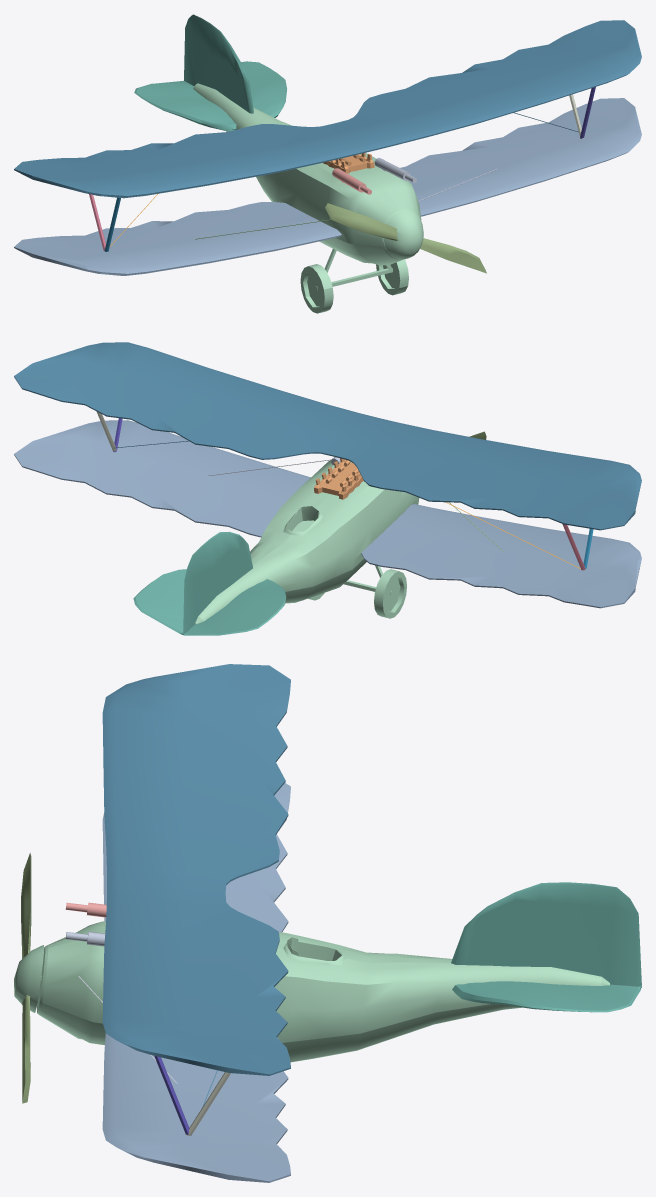
3 views of the same model, one above another, from view 1: azimuth 30°, elevation 25°; view 2: azimuth 150°, elevation 25°; view 3: azimuth 270°, elevation 25° (orthographic). The views are drawn at different scales.
Visible parts, largest first — view 1: split_parent_4, split_parent_11, split_parent_8, split_parent_7, Plane_Propeller_lambert1_0, split_parent_12; view 2: split_parent_4, split_parent_11, split_parent_8, split_parent_7, split_parent_12; view 3: split_parent_4, split_parent_8, split_parent_11, split_parent_7, Plane_Propeller_lambert1_0.
Boxes of the visible parts, left/top/right/bottom form: split_parent_4: left=14, top=20, right=641, bottom=198; split_parent_11: left=14, top=98, right=641, bottom=275; split_parent_8: left=193, top=83, right=423, bottom=313; split_parent_7: left=134, top=14, right=286, bottom=131; Plane_Propeller_lambert1_0: left=325, top=203, right=486, bottom=273; split_parent_12: left=323, top=153, right=374, bottom=173; split_parent_4: left=14, top=342, right=641, bottom=530; split_parent_11: left=14, top=420, right=641, bottom=608; split_parent_8: left=195, top=460, right=419, bottom=624; split_parent_7: left=133, top=531, right=286, bottom=635; split_parent_12: left=314, top=458, right=363, bottom=499; split_parent_4: left=102, top=664, right=290, bottom=1107; split_parent_8: left=14, top=921, right=610, bottom=1062; split_parent_11: left=102, top=783, right=290, bottom=1182; split_parent_7: left=451, top=882, right=641, bottom=1012; Plane_Propeller_lambert1_0: left=21, top=853, right=31, bottom=1103.
Bounding box in the file's own units: 1 × 0.2944 × 0.6489.
